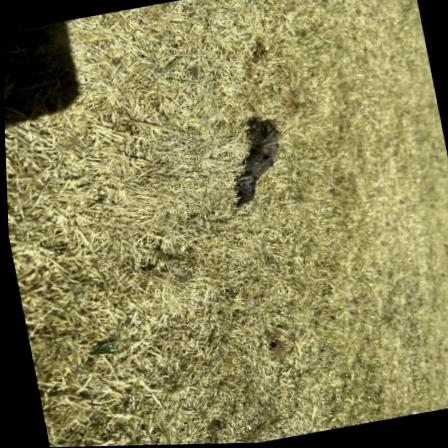dog-poop: (217, 101, 296, 218)
